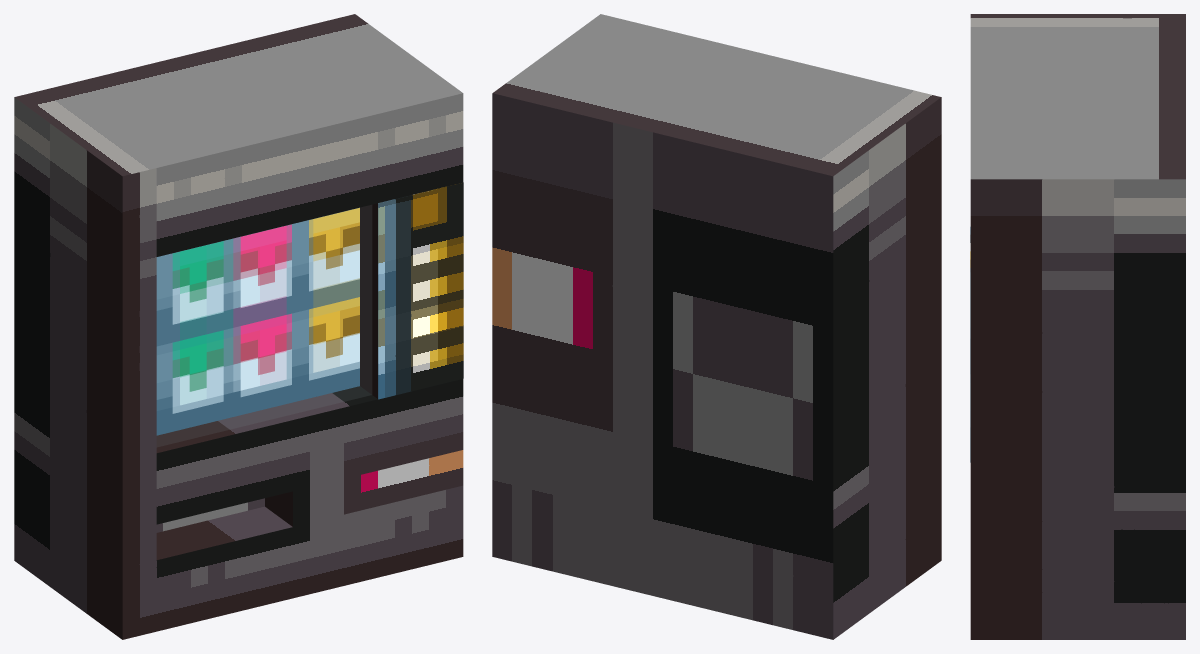
File: vending_cigs.glb
3 renders of one model, left to right at view 1: azimuth 30°, elevation 25°; view 2: azimuth 150°, elevation 25°; view 3: azimuth 270°, elevation 25°, orthographic.
Parts seen in each view (by area): view 1: vending_cigs_Cabinet, vending_cigs, vending_cigs_Display_Glass, vending_cigs_Delivery_Flap; view 2: vending_cigs_Cabinet; view 3: vending_cigs_Cabinet.
Boxes of the visible parts, x1=… form: vending_cigs_Cabinet: x1=14, y1=14, x2=463, y2=639; vending_cigs: x1=156, y1=182, x2=463, y2=435; vending_cigs_Display_Glass: x1=157, y1=205, x2=371, y2=446; vending_cigs_Delivery_Flap: x1=156, y1=498, x2=264, y2=532; vending_cigs_Cabinet: x1=492, y1=14, x2=941, y2=639; vending_cigs_Cabinet: x1=970, y1=14, x2=1185, y2=639.
Size of the model in its own units: 1.2 by 1.56 by 0.662.
Materials: 4 (3 with a texture image).
